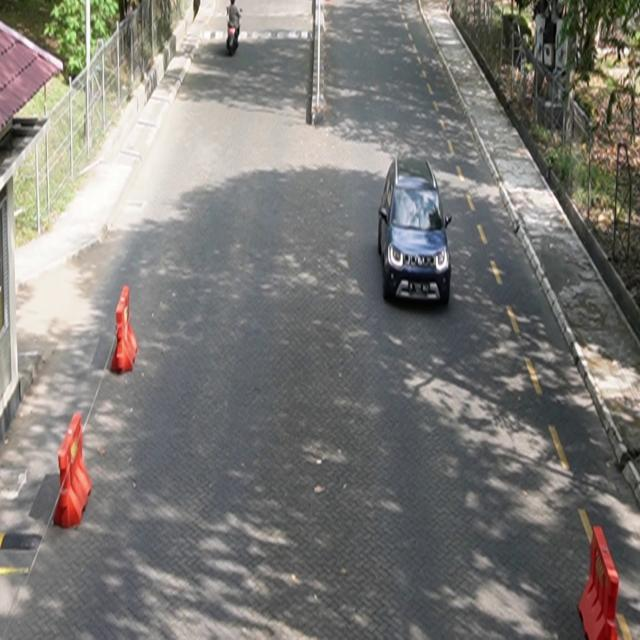car: (378, 156, 453, 307)
